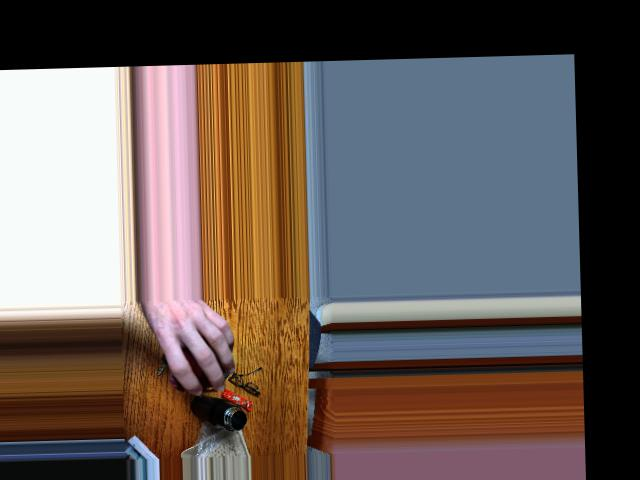onion: (167, 335, 232, 383)
